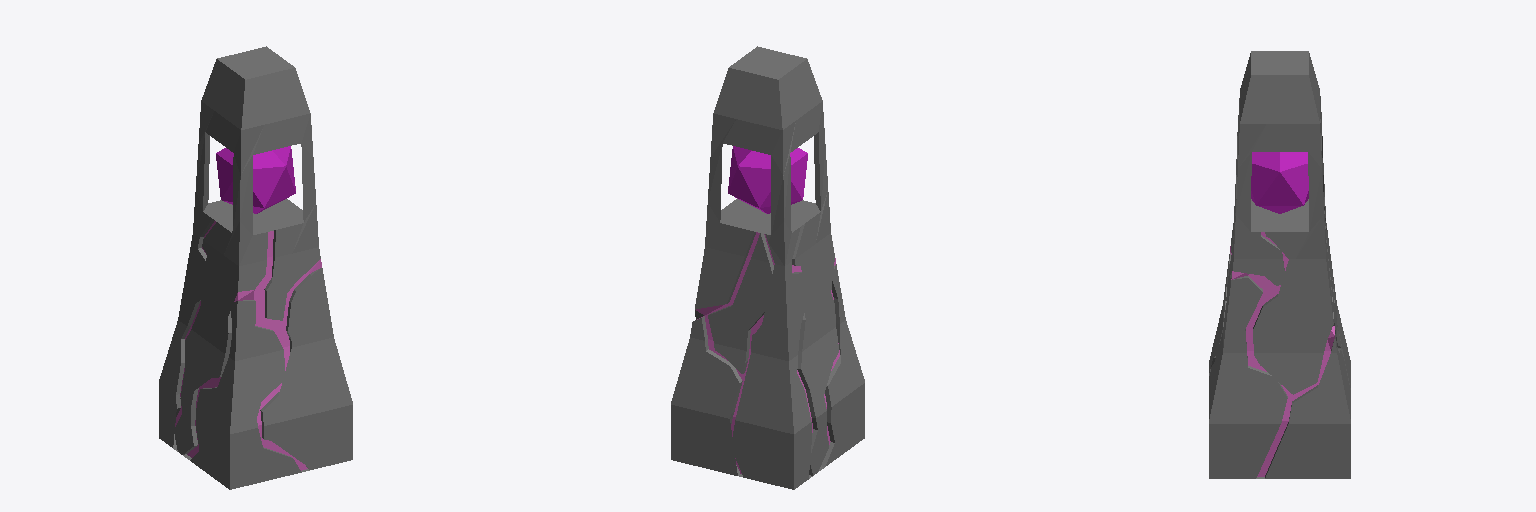
3 views of the same model, side by side, from view 1: azimuth 30°, elevation 25°; view 2: azimuth 150°, elevation 25°; view 3: azimuth 270°, elevation 25° (orthographic).
Parts seen in each view (by area): view 1: Cube; view 2: Cube; view 3: Cube.
Part boxes in pixels (bbox=[...]): Cube: bbox=[159, 46, 352, 489]; Cube: bbox=[671, 46, 864, 489]; Cube: bbox=[1209, 51, 1350, 478].
Size of the model in its own units: 2 by 5.97 by 2.
Materials: 1 (1 with a texture image).